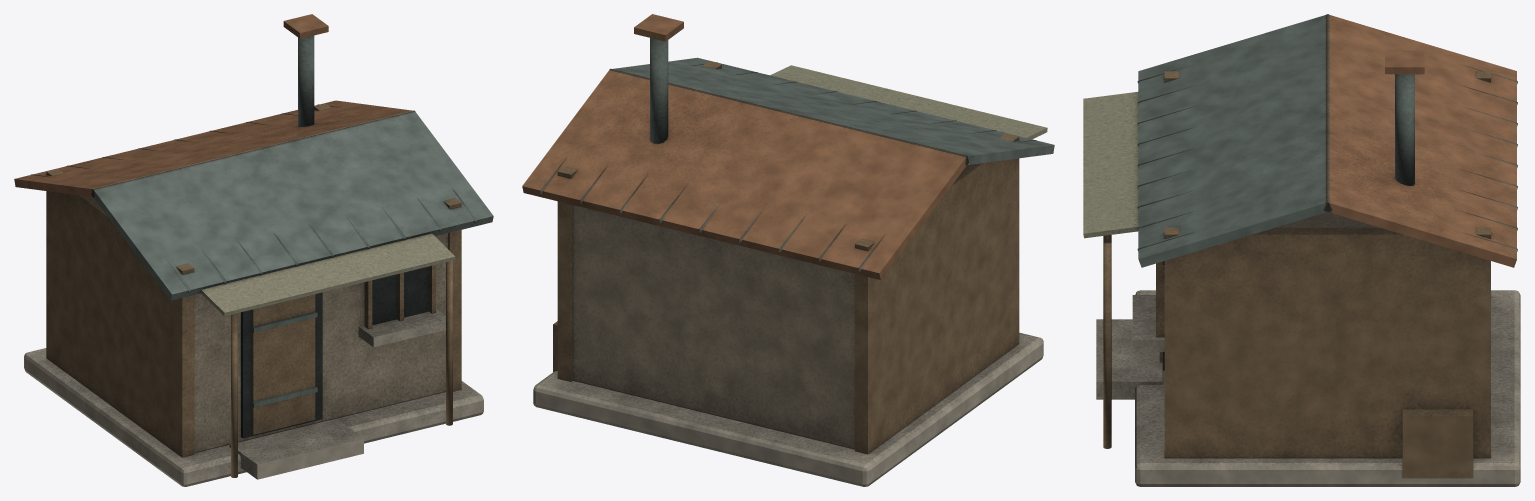
File: OutpostHut.fbx
The picture shows the model from 3 angles, left to right: view 1: azimuth 30°, elevation 25°; view 2: azimuth 150°, elevation 25°; view 3: azimuth 270°, elevation 25°; orthographic projection. The views are drawn at different scales.
Visible parts, largest first — view 1: OutpostHut; view 2: OutpostHut; view 3: OutpostHut.
Part boxes in pixels (x1=…): OutpostHut: x1=14, y1=14, x2=493, y2=486; OutpostHut: x1=522, y1=14, x2=1054, y2=486; OutpostHut: x1=1083, y1=14, x2=1520, y2=486.
Bounding box in the file's own units: 2.02 × 1.96 × 1.98.
1 material, 1 textured.
